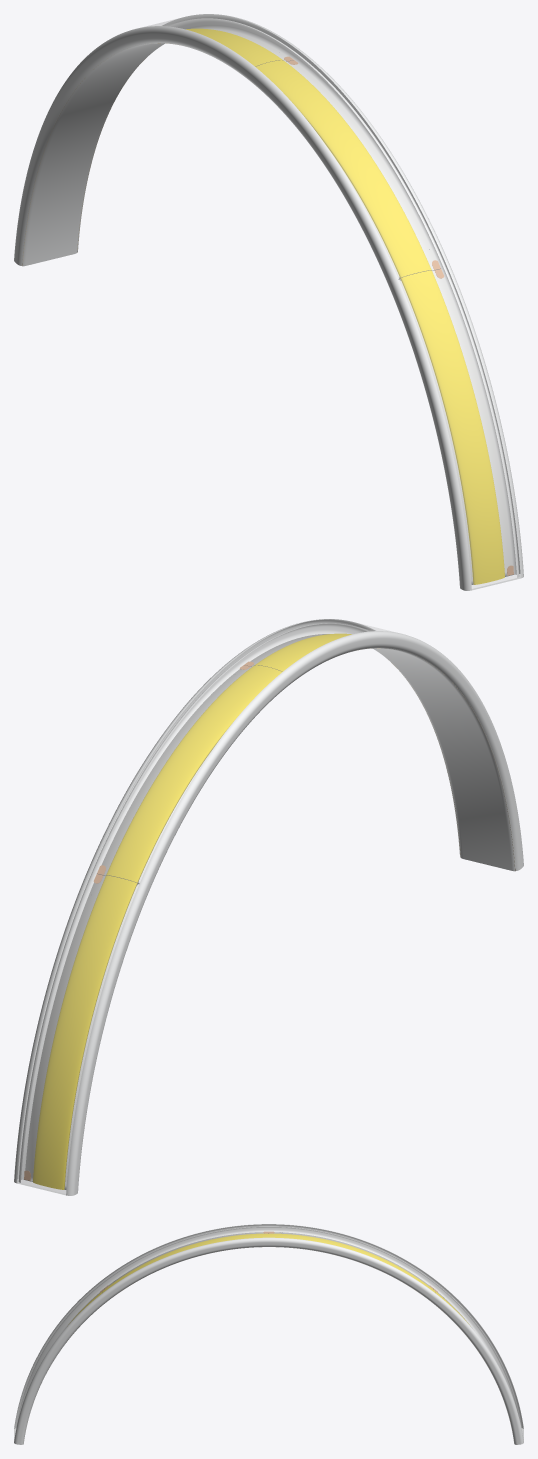
Rendered from COB_IP67_24V.glb.
3 renders of one model, top to bottom at view 1: azimuth 30°, elevation 25°; view 2: azimuth 150°, elevation 25°; view 3: azimuth 270°, elevation 25°, orthographic. The views are drawn at different scales.
Visible parts, largest first — view 1: IP67 transparent sleeve and white edges, Continuous yellow COB phosphor.002, COB flexible white PCB.002; view 2: IP67 transparent sleeve and white edges, Continuous yellow COB phosphor.002, COB flexible white PCB.002; view 3: IP67 transparent sleeve and white edges, Continuous yellow COB phosphor.002, COB flexible white PCB.002.
Part boxes in pixels (box(x1,y1,x2,y2)): IP67 transparent sleeve and white edges: box(14, 14, 523, 590); Continuous yellow COB phosphor.002: box(186, 28, 504, 584); COB flexible white PCB.002: box(22, 29, 512, 584); IP67 transparent sleeve and white edges: box(14, 619, 523, 1195); Continuous yellow COB phosphor.002: box(33, 633, 351, 1189); COB flexible white PCB.002: box(25, 634, 515, 1189); IP67 transparent sleeve and white edges: box(14, 1224, 523, 1444); Continuous yellow COB phosphor.002: box(70, 1233, 467, 1322); COB flexible white PCB.002: box(23, 1232, 514, 1444).
Size of the model in its own units: 0.0108 by 0.0633 by 0.1419.
